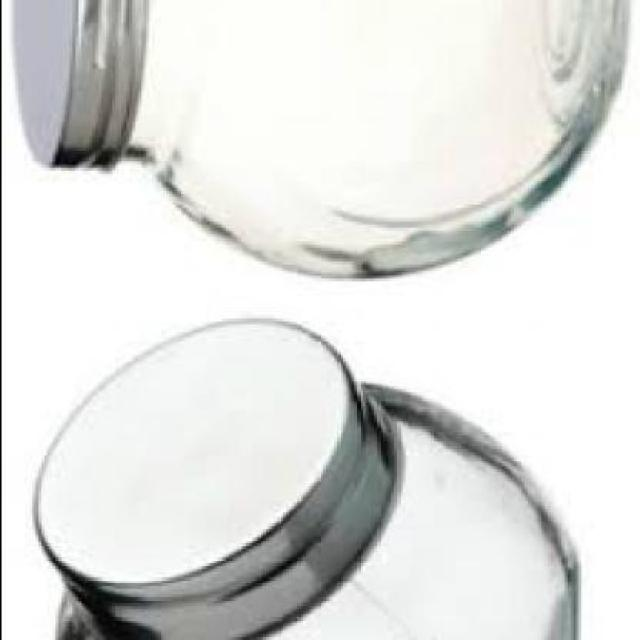GLASS: (118, 0, 624, 277), (51, 381, 572, 637)
METAL: (28, 321, 401, 637), (8, 0, 142, 168)
